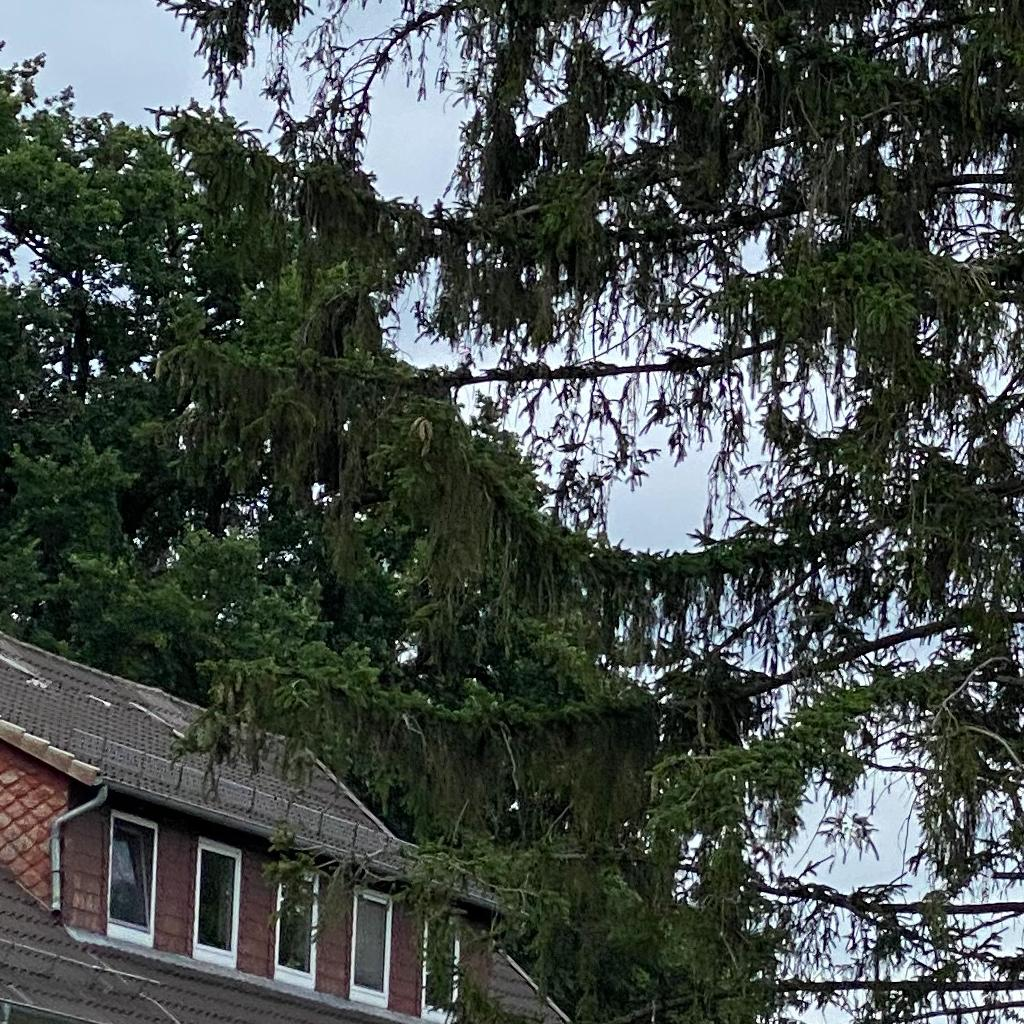tree: (143, 1, 1023, 1023), (1, 41, 806, 1024)
